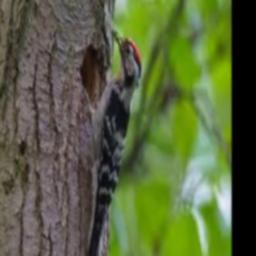Woodpecker: (81, 28, 141, 256)
